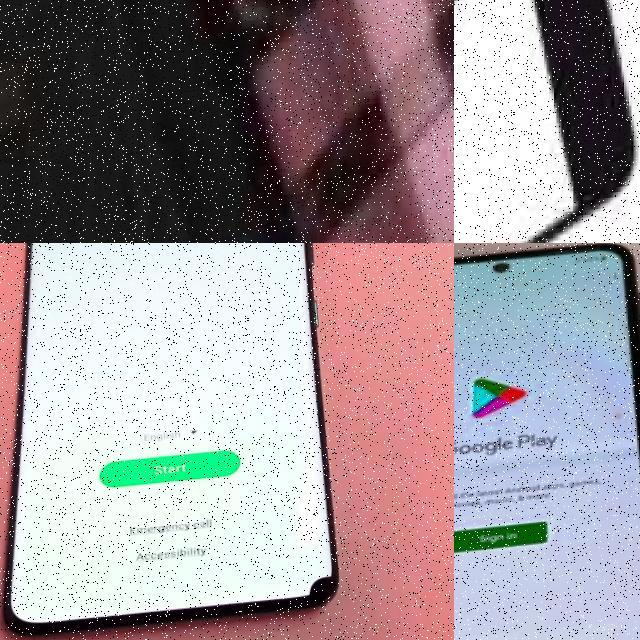dead pixel: (285, 570, 363, 621), (586, 408, 640, 443)
